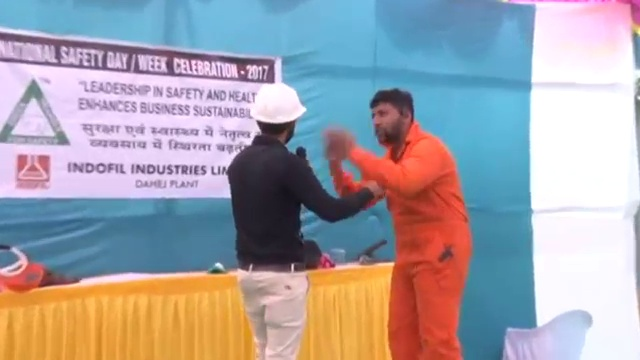helmet: (252, 80, 306, 125)
helmet_off: (368, 88, 415, 142)
helmet_on: (250, 80, 306, 146)
person: (325, 85, 476, 360), (223, 79, 328, 360)
